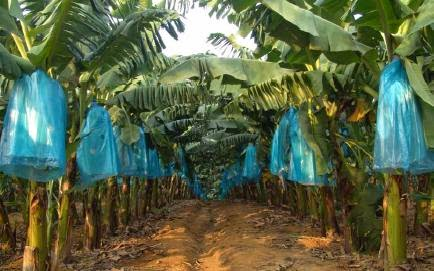plastic_bagwdw: (264, 90, 351, 213), (1, 58, 70, 212), (363, 46, 434, 182), (71, 79, 131, 235), (108, 102, 153, 206), (222, 132, 268, 203), (142, 120, 169, 198)
